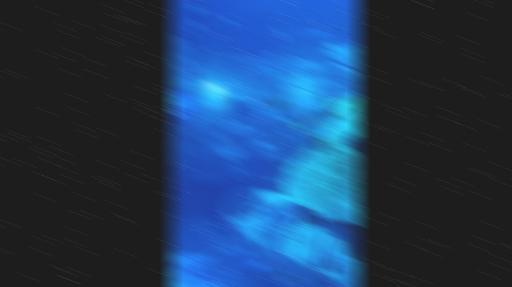Fish: (291, 111, 326, 132), (323, 97, 354, 116), (295, 206, 322, 227), (289, 29, 334, 39), (265, 97, 290, 110), (244, 203, 269, 215), (344, 133, 359, 153), (312, 133, 325, 152), (273, 26, 286, 39), (278, 271, 293, 282), (273, 161, 288, 170), (327, 258, 336, 271), (191, 20, 202, 30), (269, 132, 276, 143), (180, 127, 187, 138), (190, 5, 201, 12), (277, 119, 292, 124), (267, 177, 280, 182), (184, 57, 191, 65), (223, 19, 234, 24), (283, 86, 289, 94), (188, 29, 195, 34), (208, 49, 212, 53), (317, 22, 321, 25)
